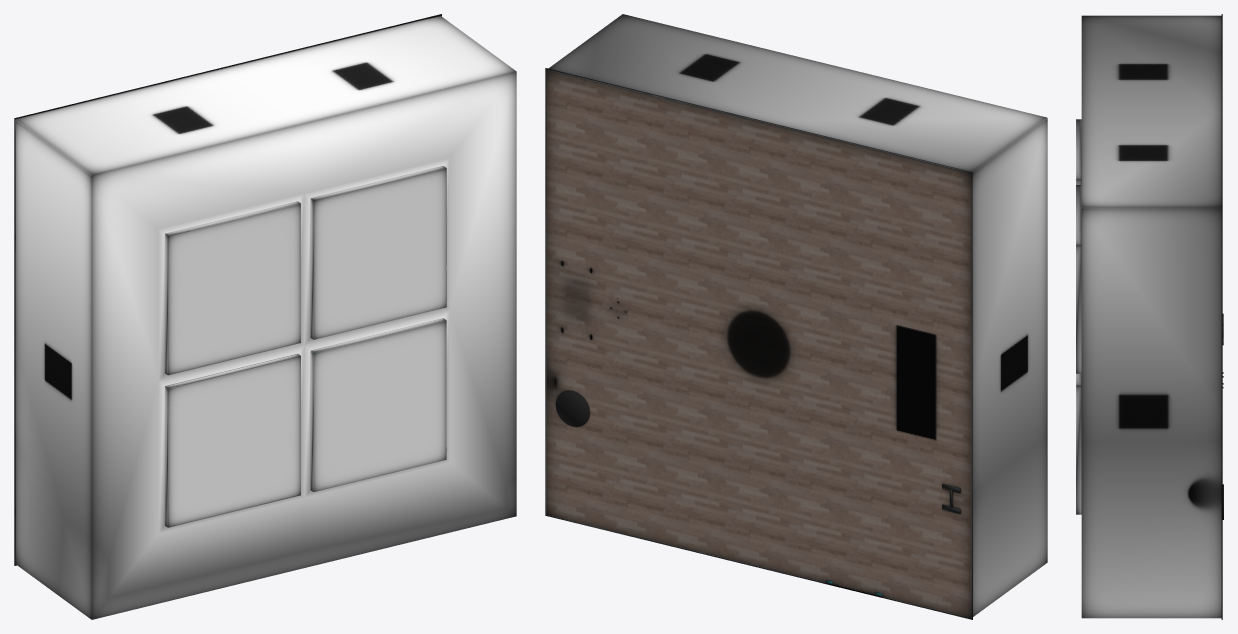
Rendered from myosuite_scene.obj.
3 renders of one model, left to right at view 1: azimuth 30°, elevation 25°; view 2: azimuth 150°, elevation 25°; view 3: azimuth 270°, elevation 25°, orthographic. The views are drawn at different scales.
Size of the model in its own units: 14 by 14.05 by 4.54.
1 material, 1 textured.
